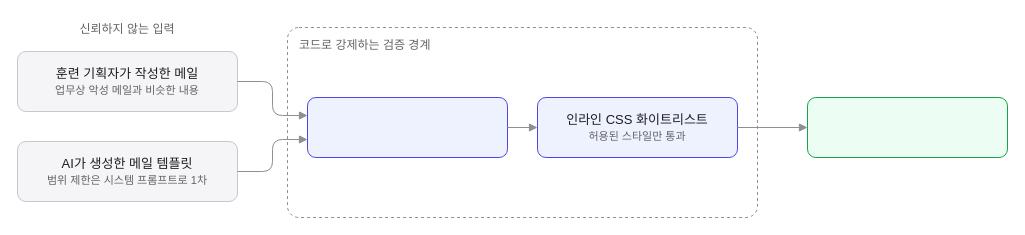
This 1025x235 diagram has some shape labels left out. Each missing label, with the centre of its shape:
"sanitize 스크립트 실행 가능 요소 제거" belongs at pixel 407 127.
"훈련 메일 렌더링 대상자 브라우저 · 31개 고객사" belongs at pixel 907 127.
